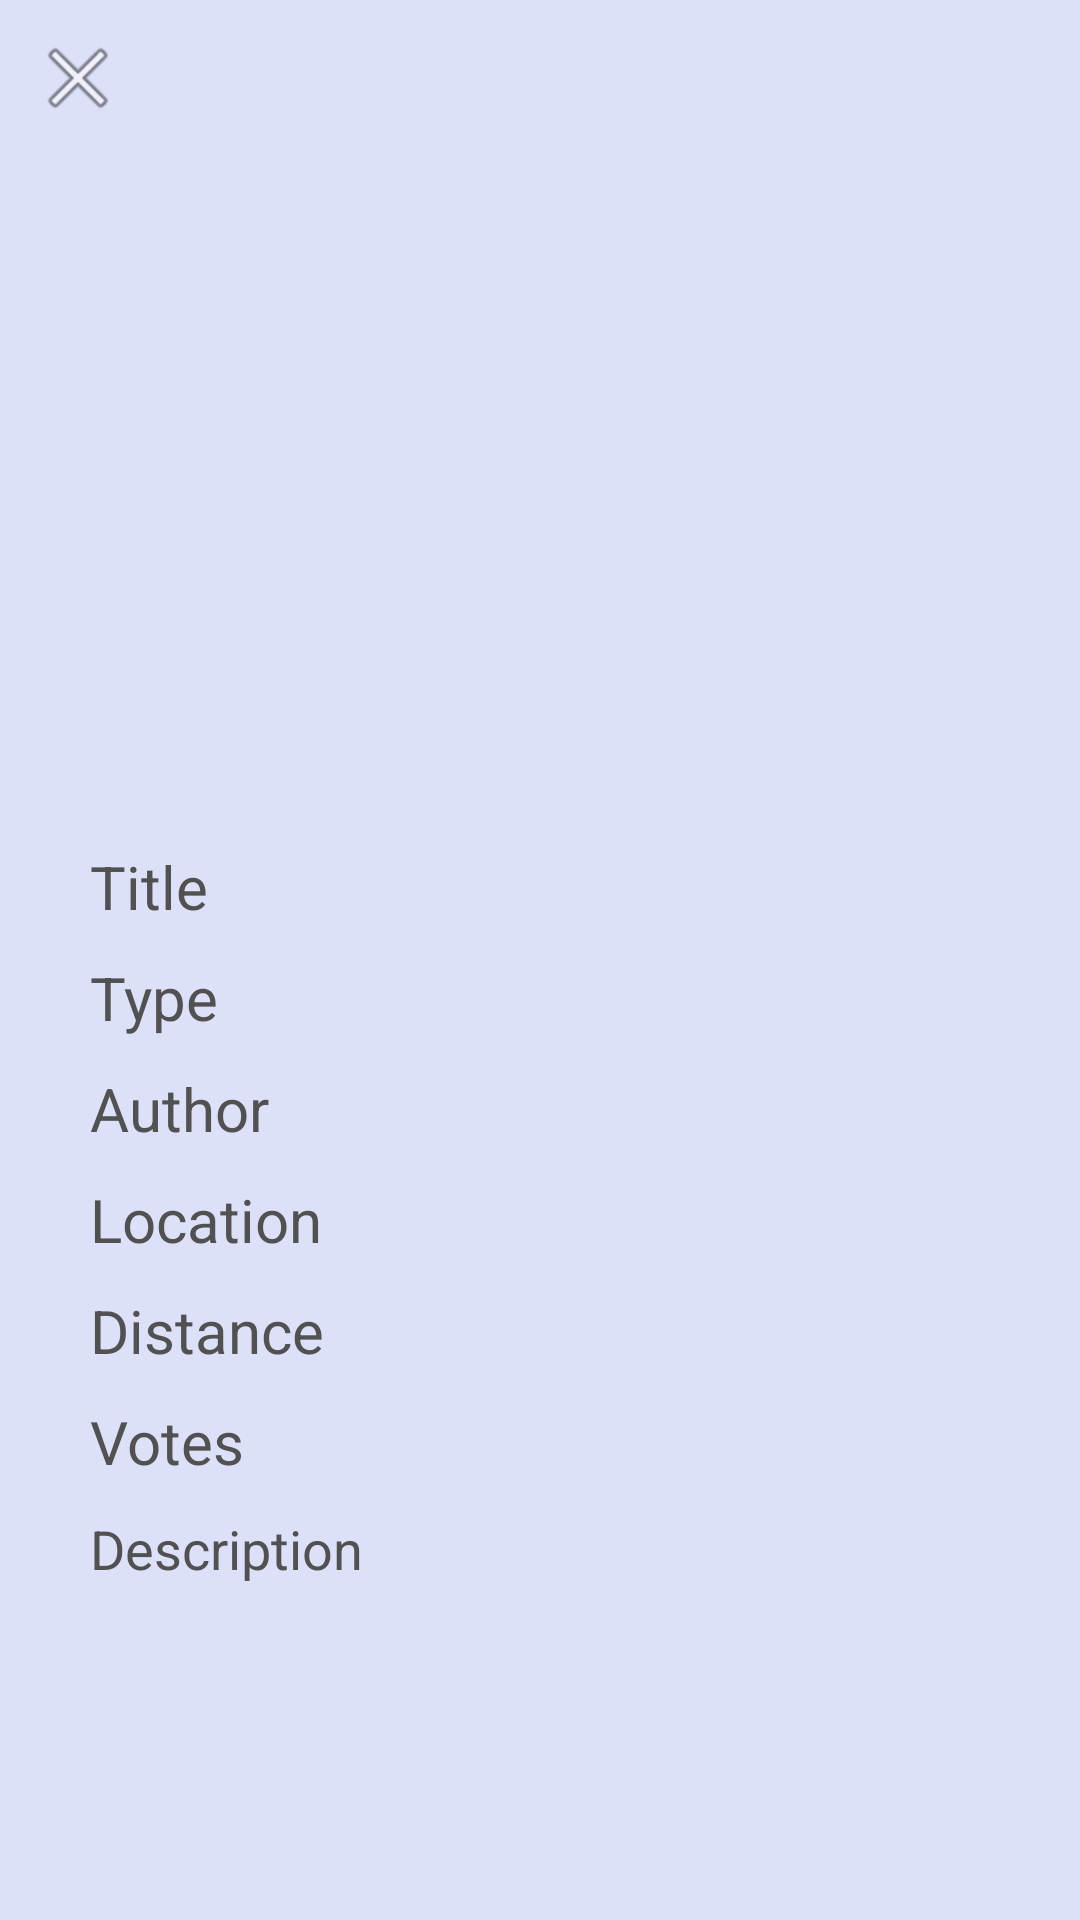

Where to tap for icons on this 1080px×1920px app screen, as (x,y):
close clear cancel: (78,78)
